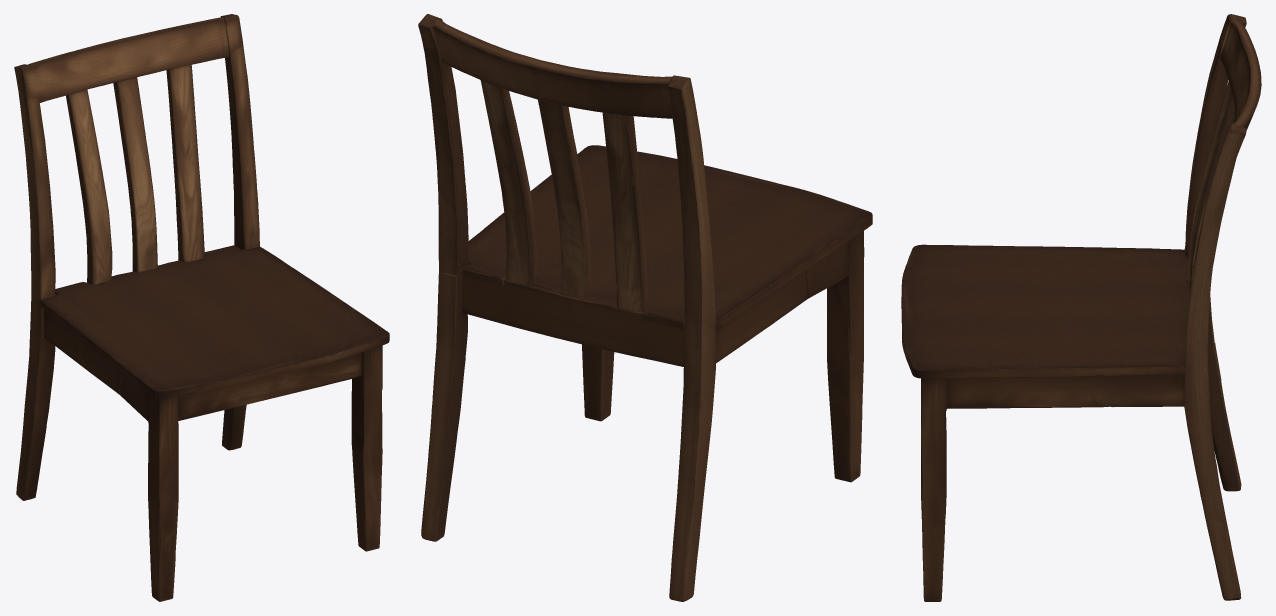
Rendered from sandalye.glb.
3 renders of one model, left to right at view 1: azimuth 30°, elevation 25°; view 2: azimuth 150°, elevation 25°; view 3: azimuth 270°, elevation 25°, orthographic. The views are drawn at different scales.
Bounding box in the file's own units: 1.09 × 1.9 × 1.32.
Materials: 1 (1 with a texture image).
